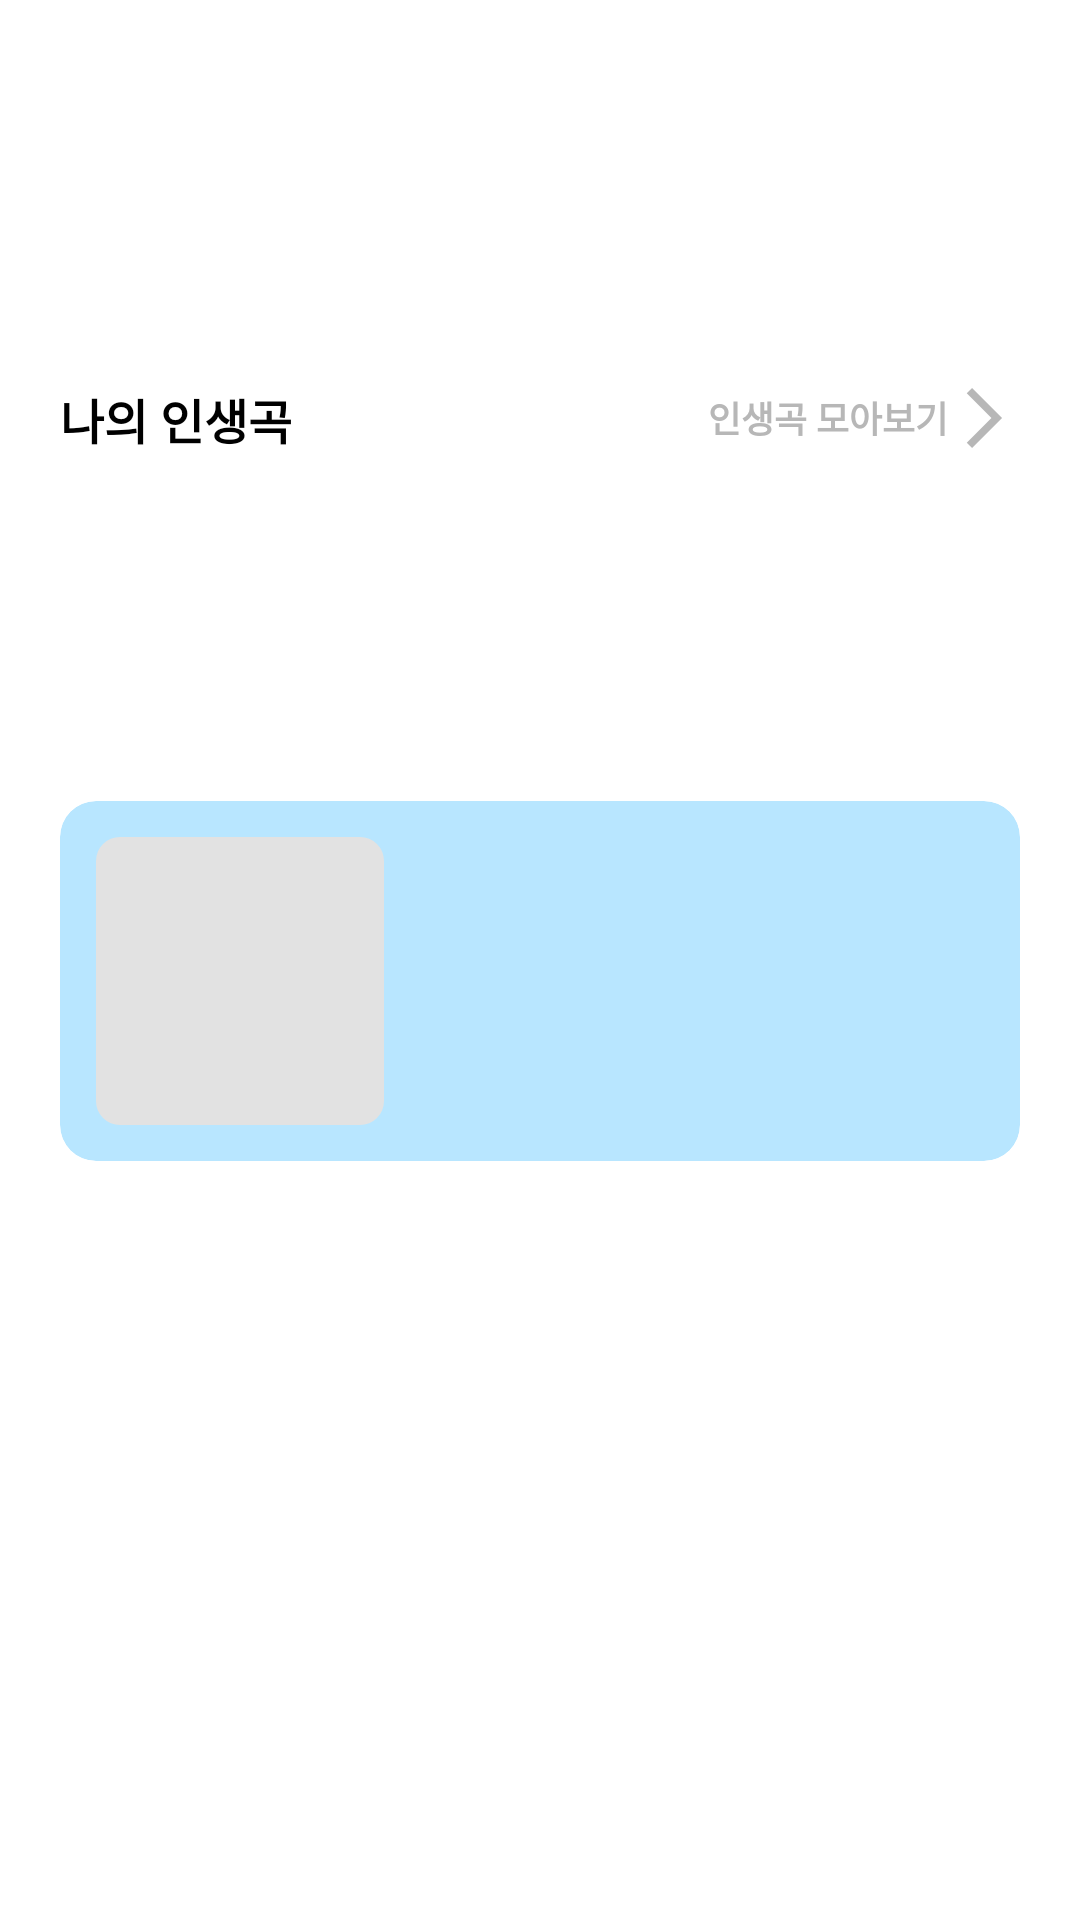

Screen size 1080x1920. Icon name, then its center in pixels as point (x, y):
arrow forward: point (984, 418)
